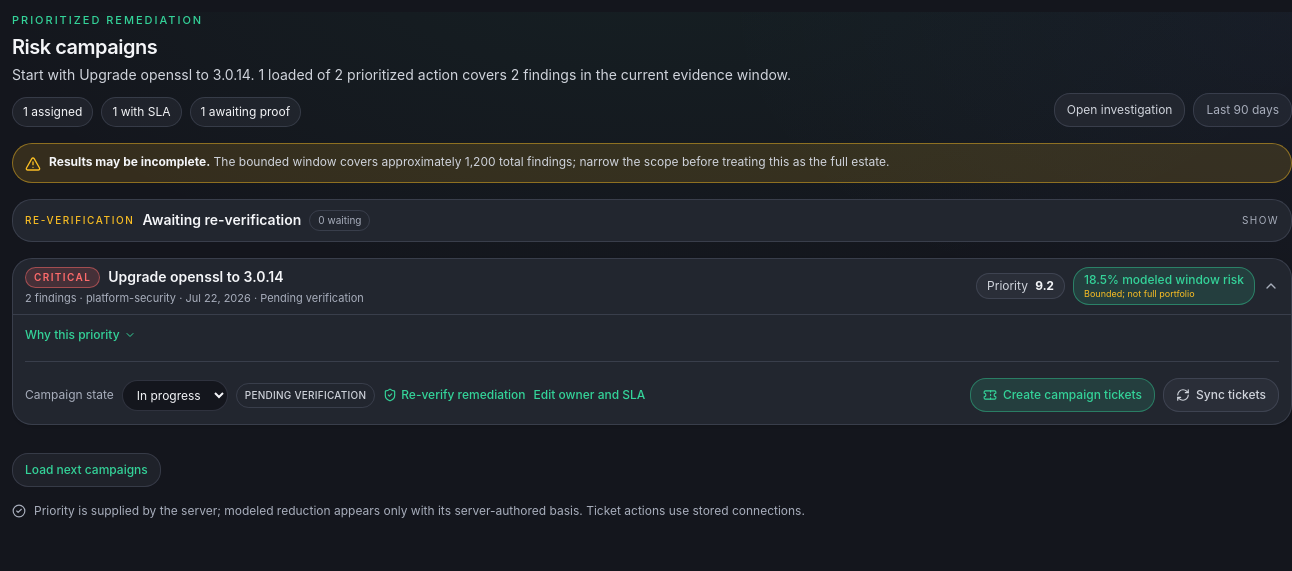
Scenario: RiskCampaignCommandCenter › retains loaded evidence when a later campaign page is stale
Step 1. Click the button "Load next campaigns" → (86, 470), box top-left (12, 453), bottom-right (161, 487)
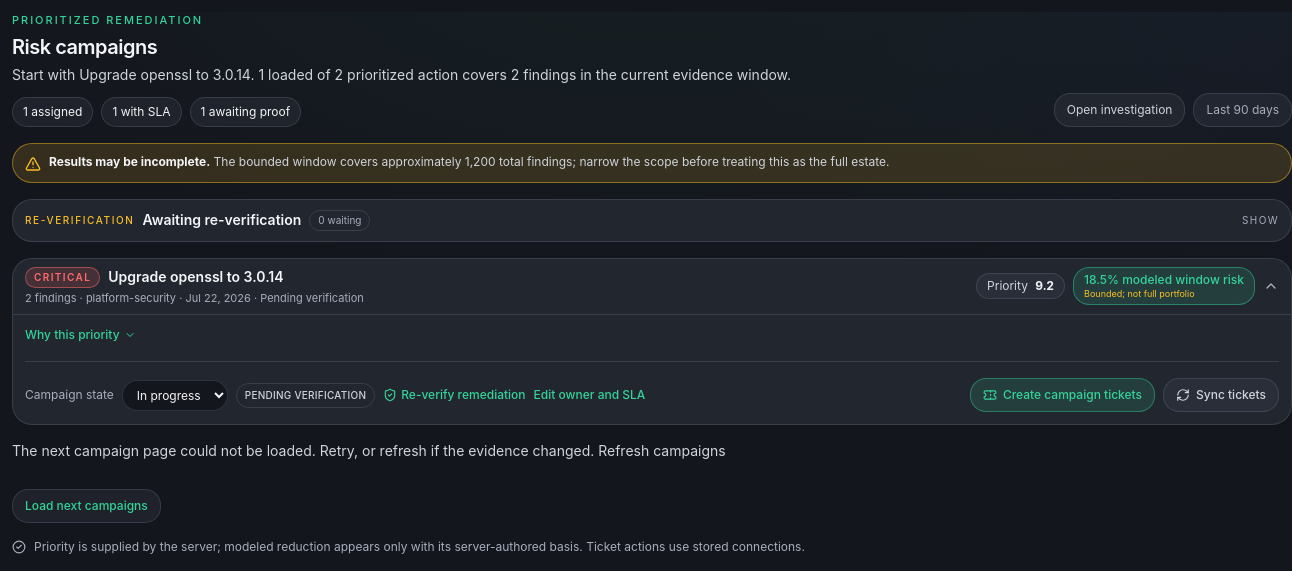
Expected: the heading "Upgrade openssl to 3.0.14" is shown, top-left (108, 267), bottom-right (284, 287)
Expected: the button "Refresh campaigns" is shown, top-left (598, 441), bottom-right (726, 461)
